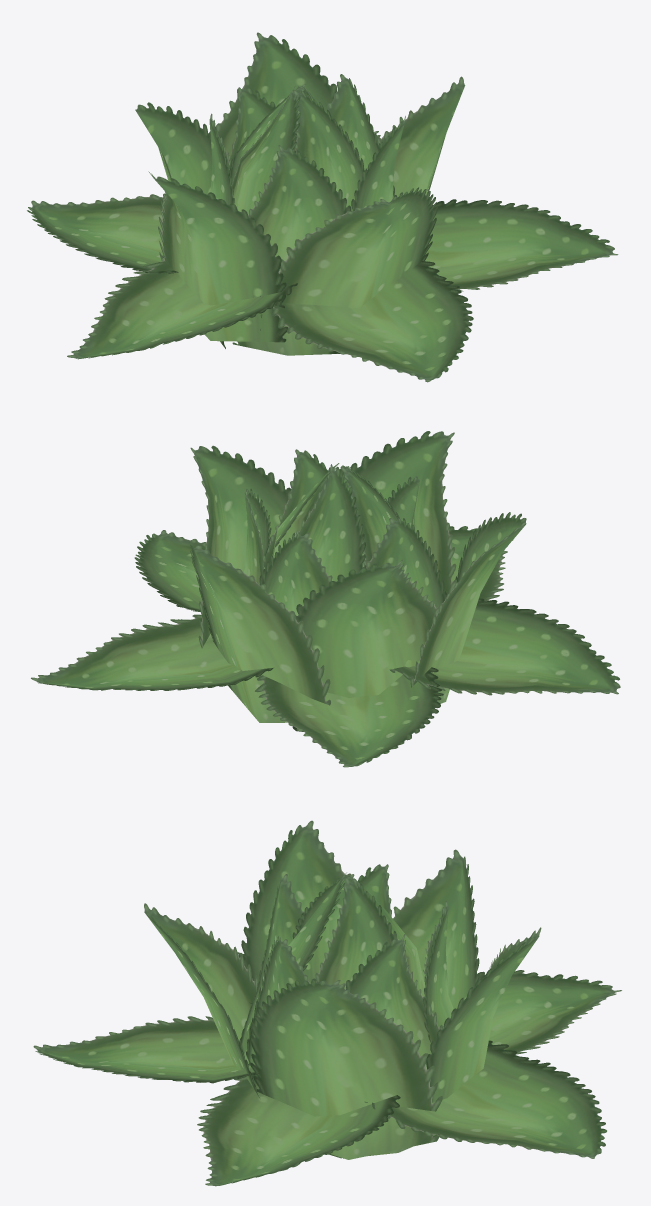
Rendered from SM_Ground_Cactus_A.fbx.
3 renders of one model, top to bottom at view 1: azimuth 30°, elevation 25°; view 2: azimuth 150°, elevation 25°; view 3: azimuth 270°, elevation 25°, orthographic. The views are drawn at different scales.
Visible parts, largest first — view 1: SM_Ground_Cactus_A_LOD0; view 2: SM_Ground_Cactus_A_LOD0; view 3: SM_Ground_Cactus_A_LOD0.
Part boxes in pixels (x1,y1,x2,y2): SM_Ground_Cactus_A_LOD0: (27, 32, 618, 382); SM_Ground_Cactus_A_LOD0: (31, 431, 620, 767); SM_Ground_Cactus_A_LOD0: (33, 820, 621, 1186).
Bounding box in the file's own units: 99.7 × 96.76 × 43.86.
1 material, 1 textured.
